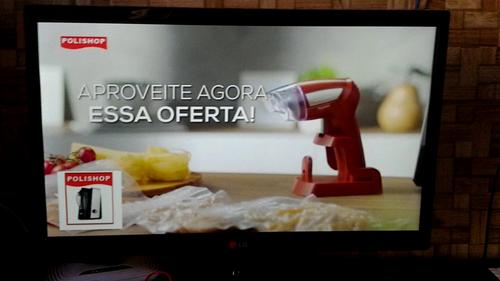Polishop #1: (57, 170, 122, 230)
